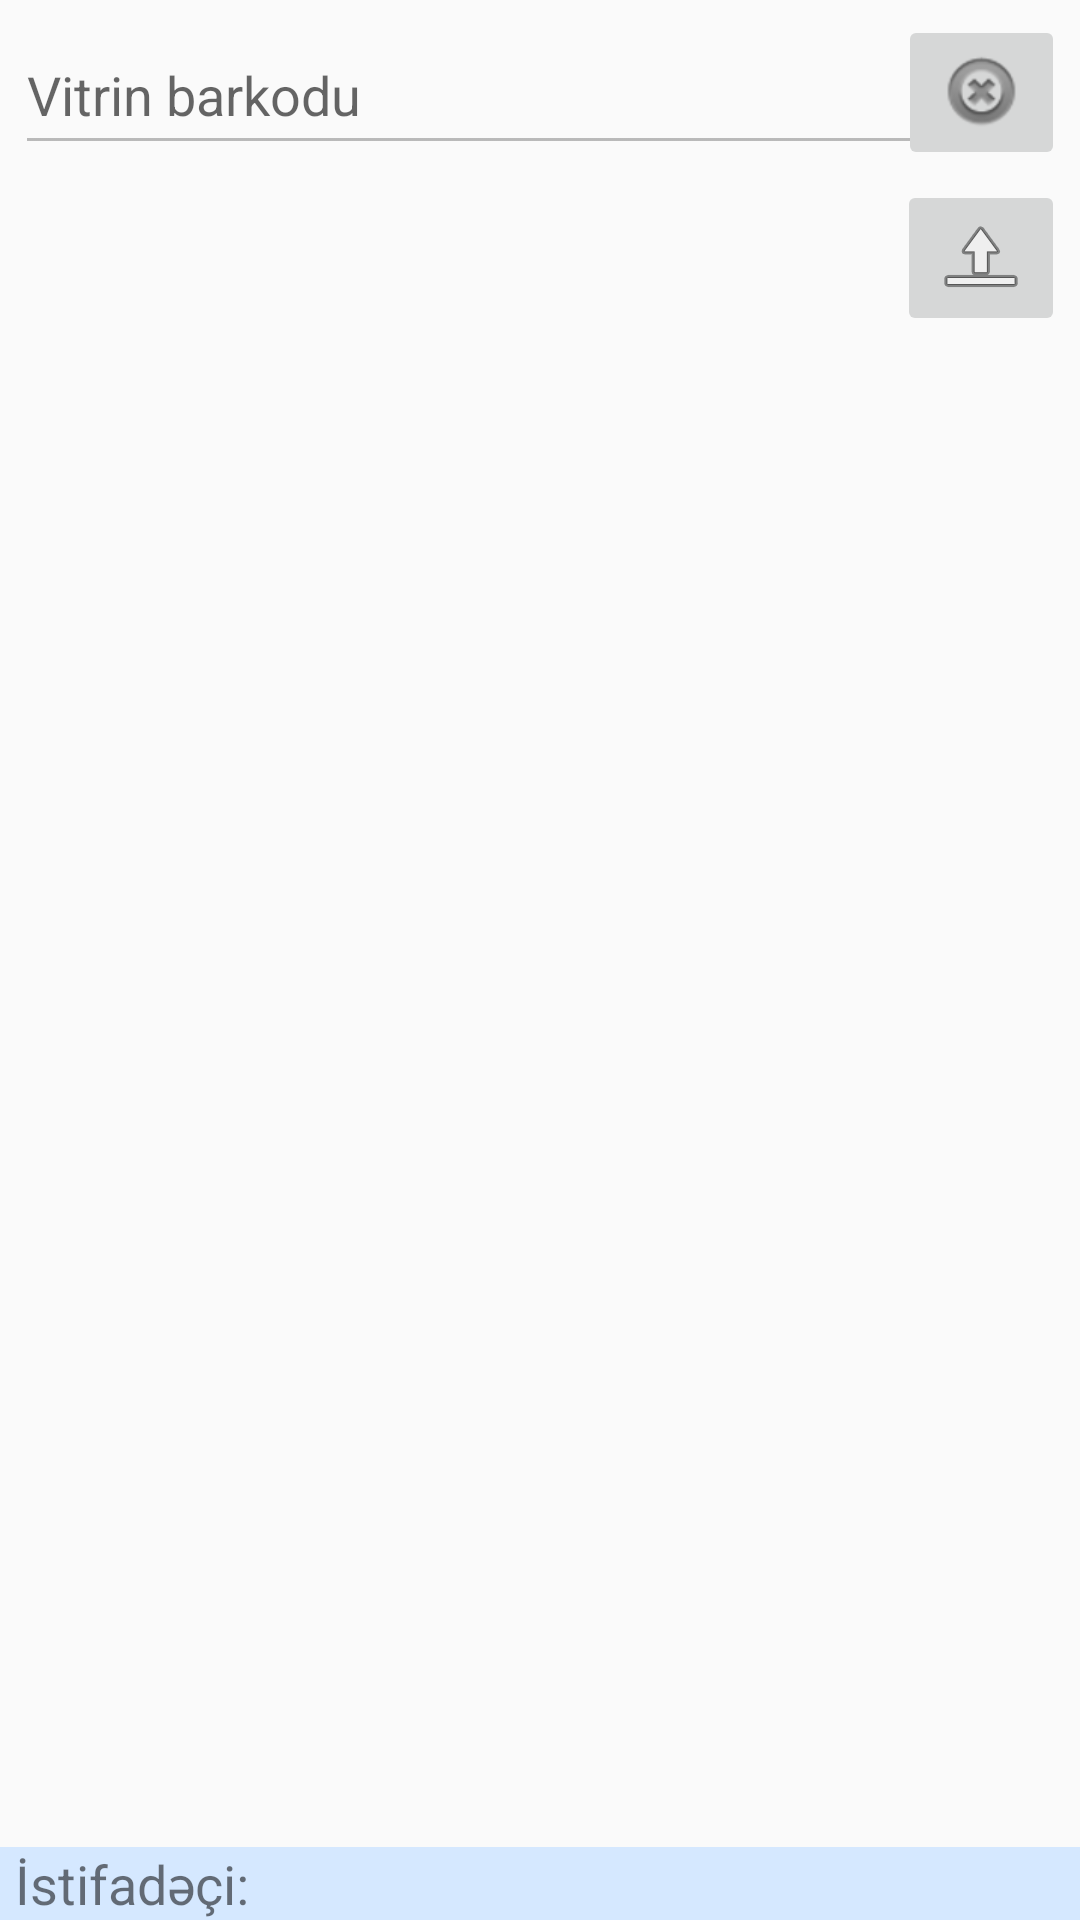

Screen size 1080px x 1920px. Icon name, then its box in pixels as {"left": x1, "top": y1, "right": x2, "bottom": y2}:
notification clear all: {"left": 898, "top": 33, "right": 1053, "bottom": 152}
upload: {"left": 909, "top": 198, "right": 1053, "bottom": 318}
